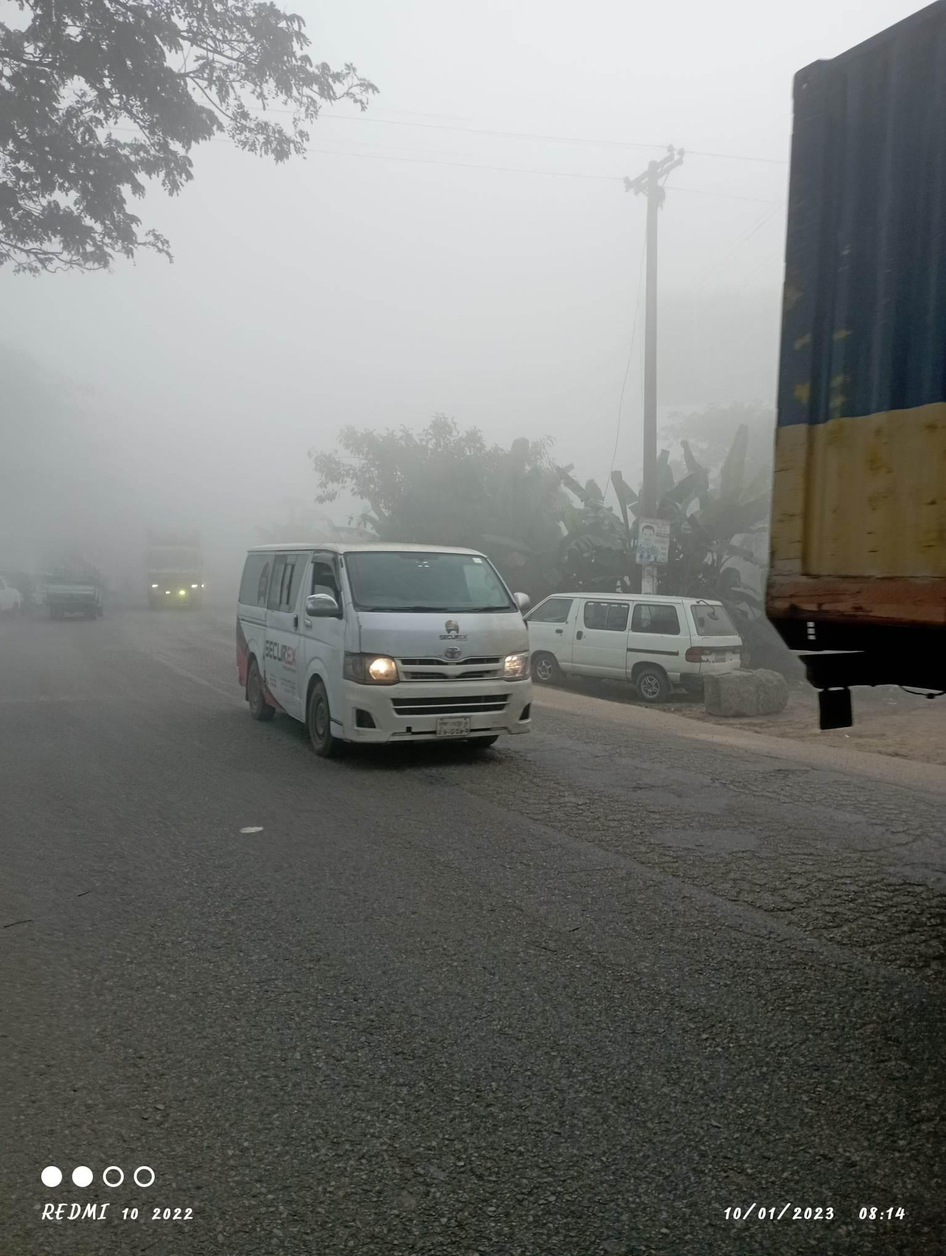Car: (204, 518, 555, 819), (526, 565, 749, 734)
Truck: (741, 14, 946, 731), (137, 537, 213, 629)
